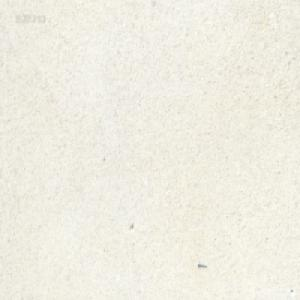Nail: (197, 261, 206, 268)
